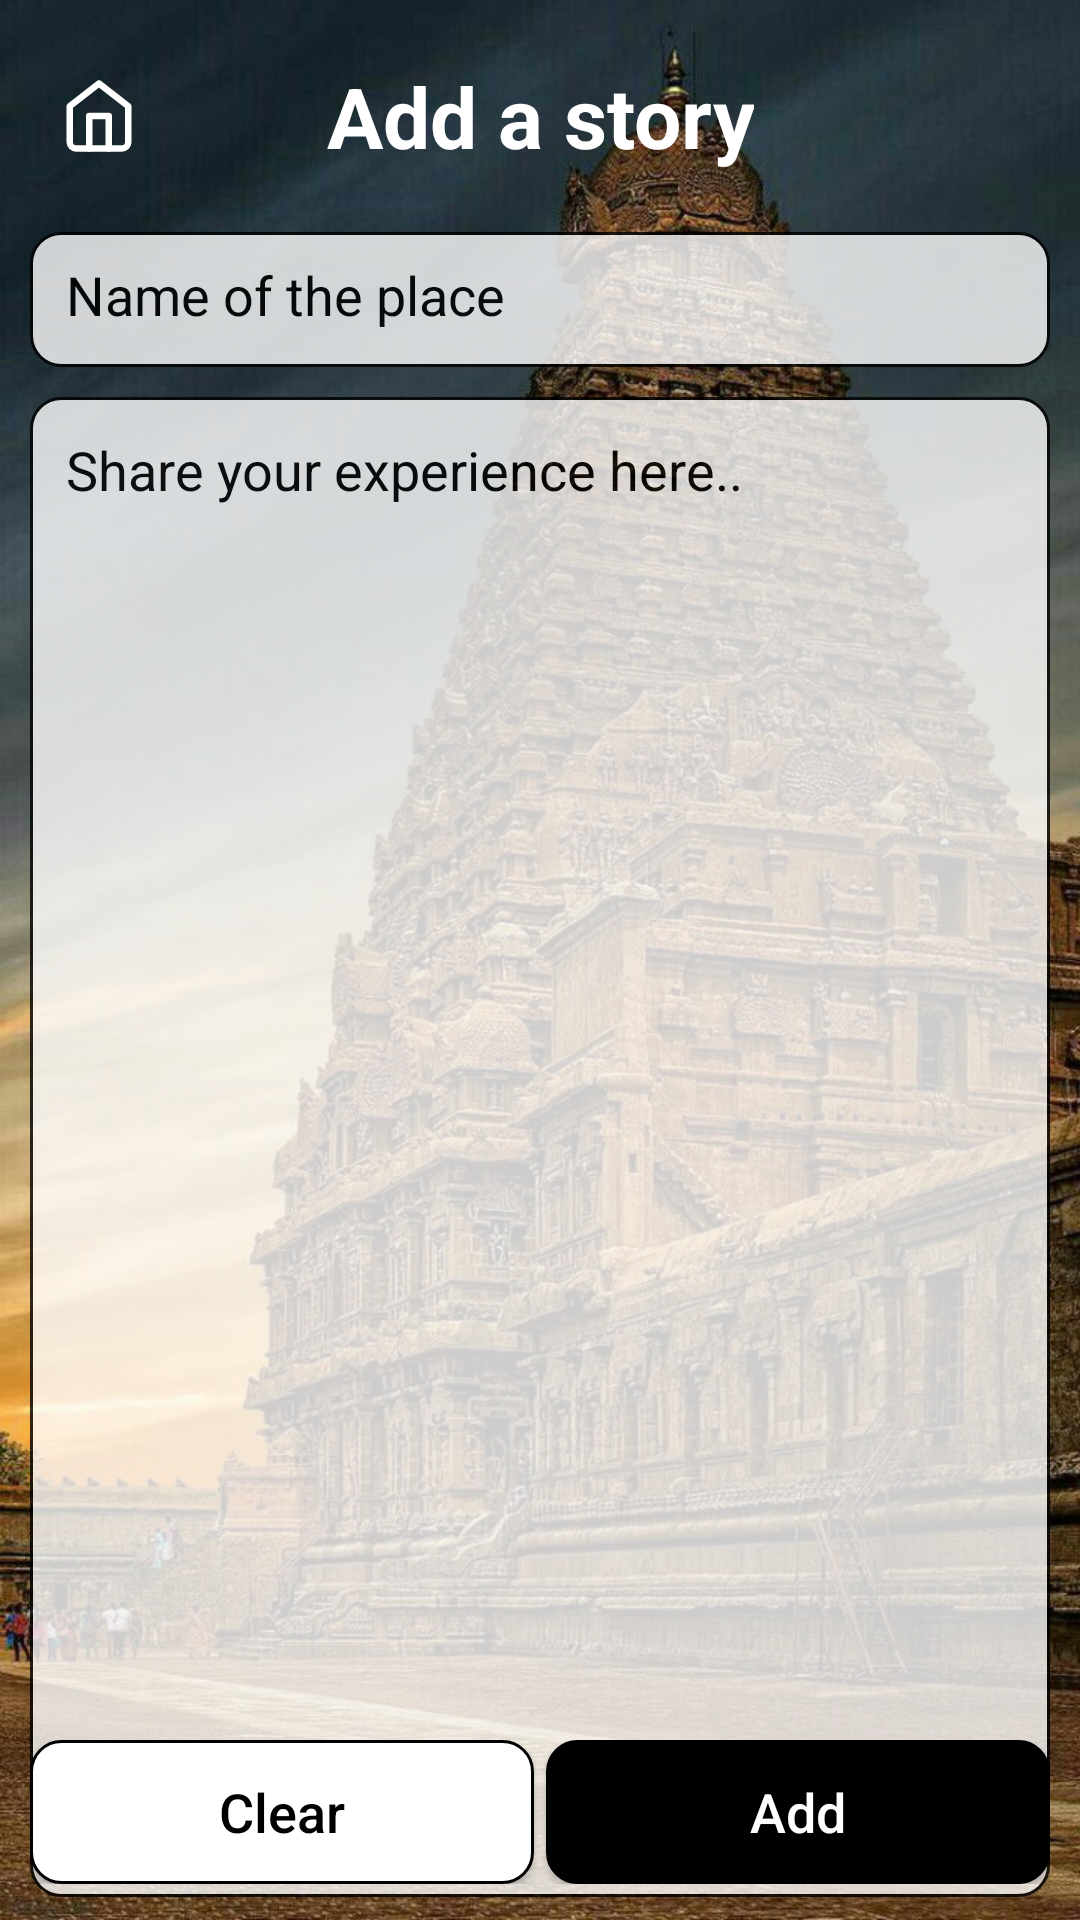

Where to tap for icons on this 1080px×1920px app screen, as [x,y]:
home: [99,116]
